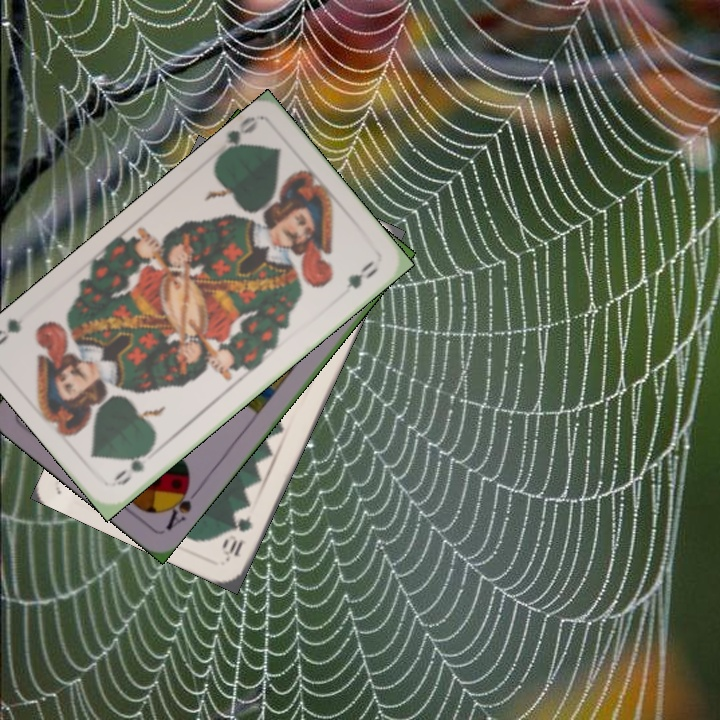G10: (218, 510, 255, 562)
GO: (213, 112, 261, 160), (109, 443, 155, 489)
SA: (159, 477, 204, 533)
